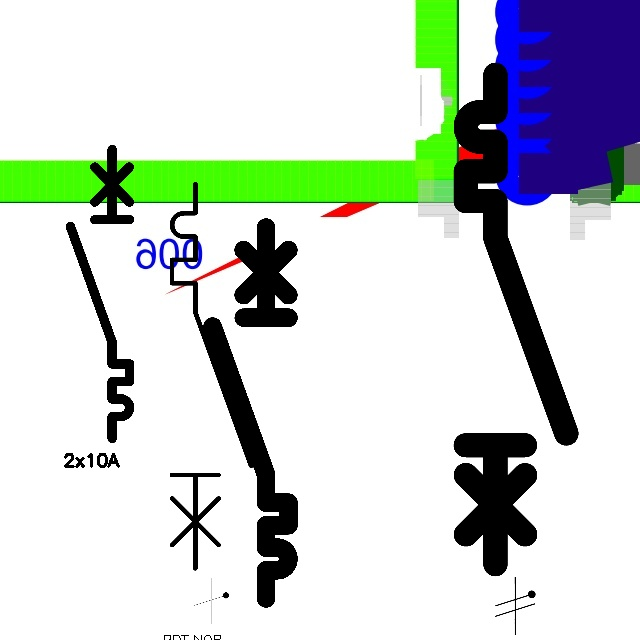interruptor_termomagnetico: (453, 62, 579, 577), (162, 174, 261, 578), (203, 218, 298, 608), (63, 142, 137, 446)
